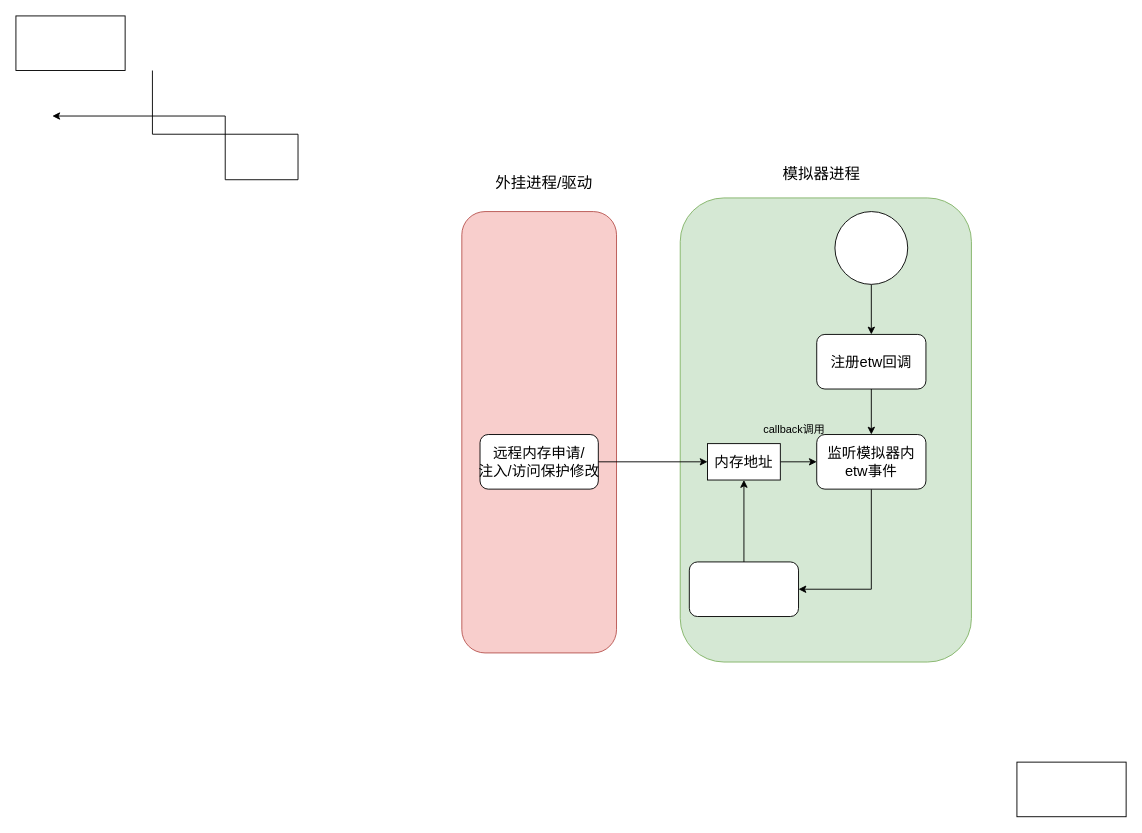
Some shapes in this 1142 by 833 pixel diagram are drawn without their labels. The centre of each missing label's shape, as x and y in pixels:
"主动释放对应内存空间" goes at pixel 743 589.
"启动" goes at pixel 871 247.
